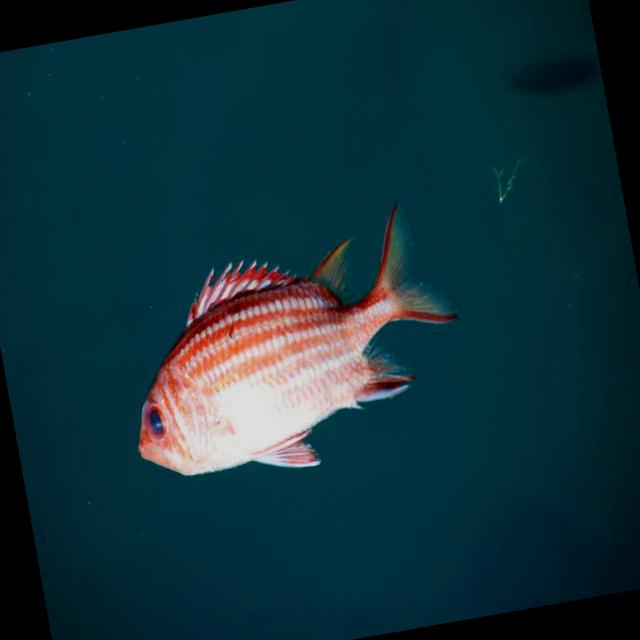Asker Baligi: (93, 181, 512, 532)
